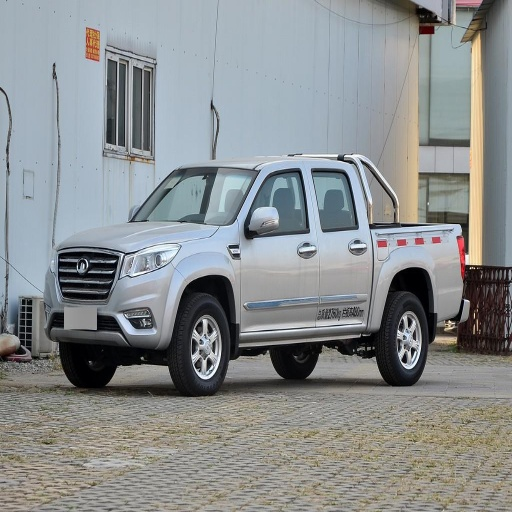back_left_door: (308, 163, 369, 322)
front_bumper: (41, 250, 185, 348)
front_glass: (129, 168, 256, 225)
front_left_door: (241, 168, 319, 329)
trunk: (367, 230, 464, 325)
